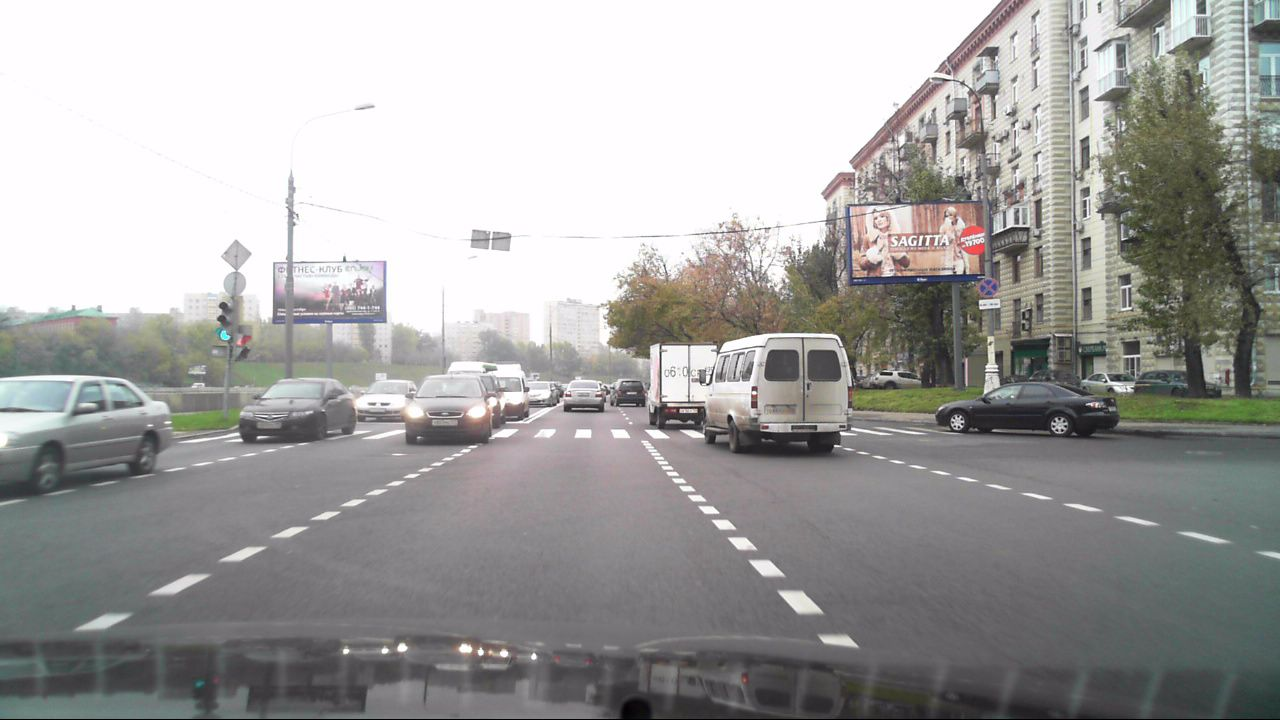No Parking: (976, 274, 1001, 297)
